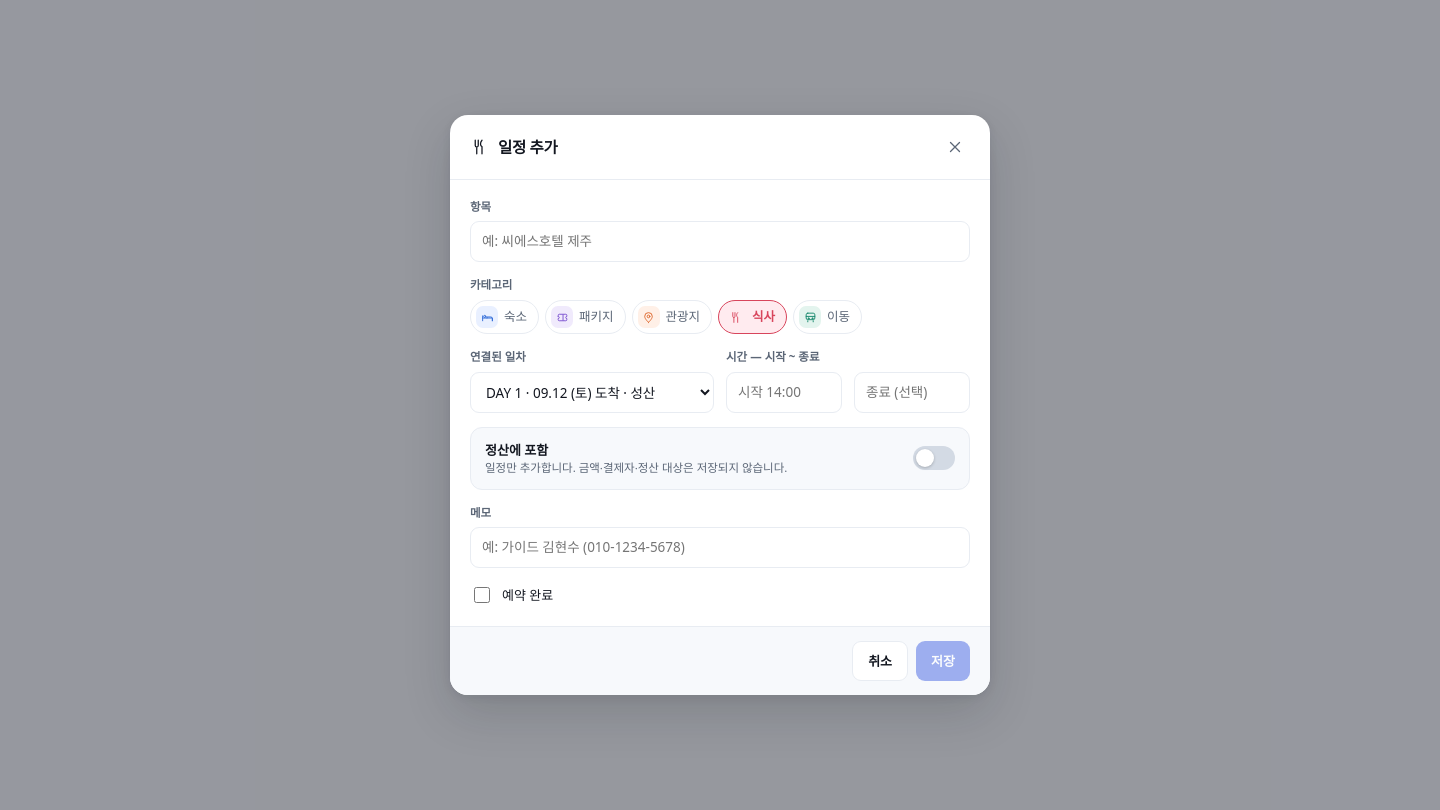
Test case: 일정 폼 — 정산 토글 › 결제자는 '아직 정하지 않음'이 기본이다 (사전 배정하지 않는다)
Expected: the field labelled "항목" is shown, [470,221,970,262]
Click the button "정산에 포함 일정만 추가합니다. 금액·결제자·정산 대상은 저장되지 않습니다.": coordinates (720, 458) [470,427,970,490]
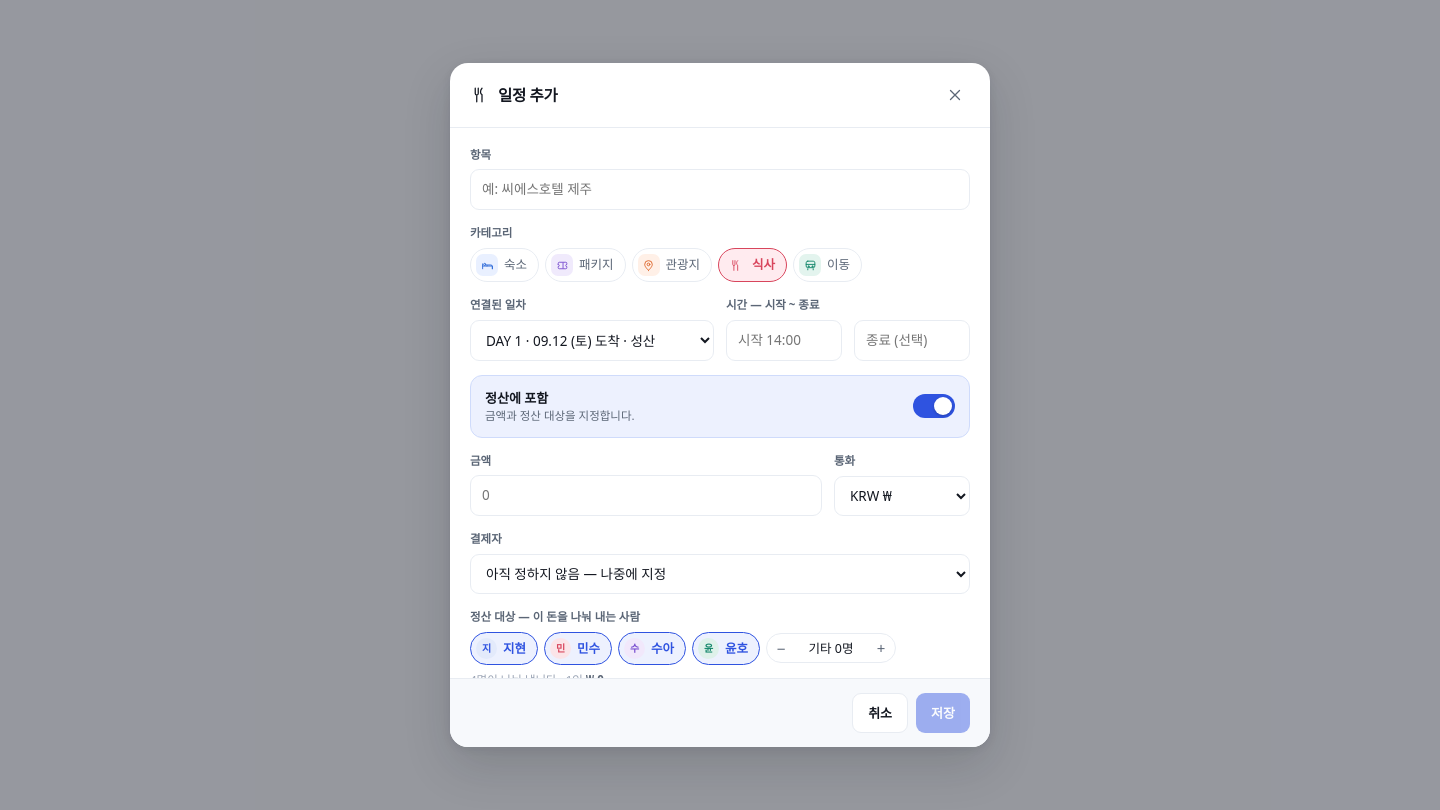
Expected: the dropdown with id "fPayer" shows "아직 정하지 않음 — 나중에 지정", [470,554,970,594]
